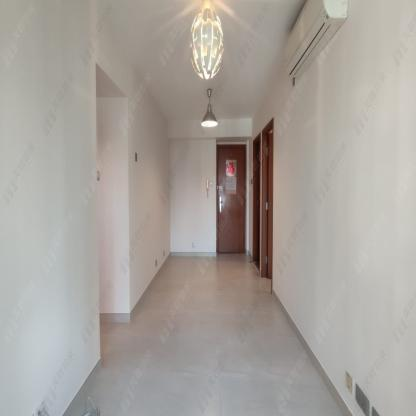AC: (283, 0, 349, 79)
